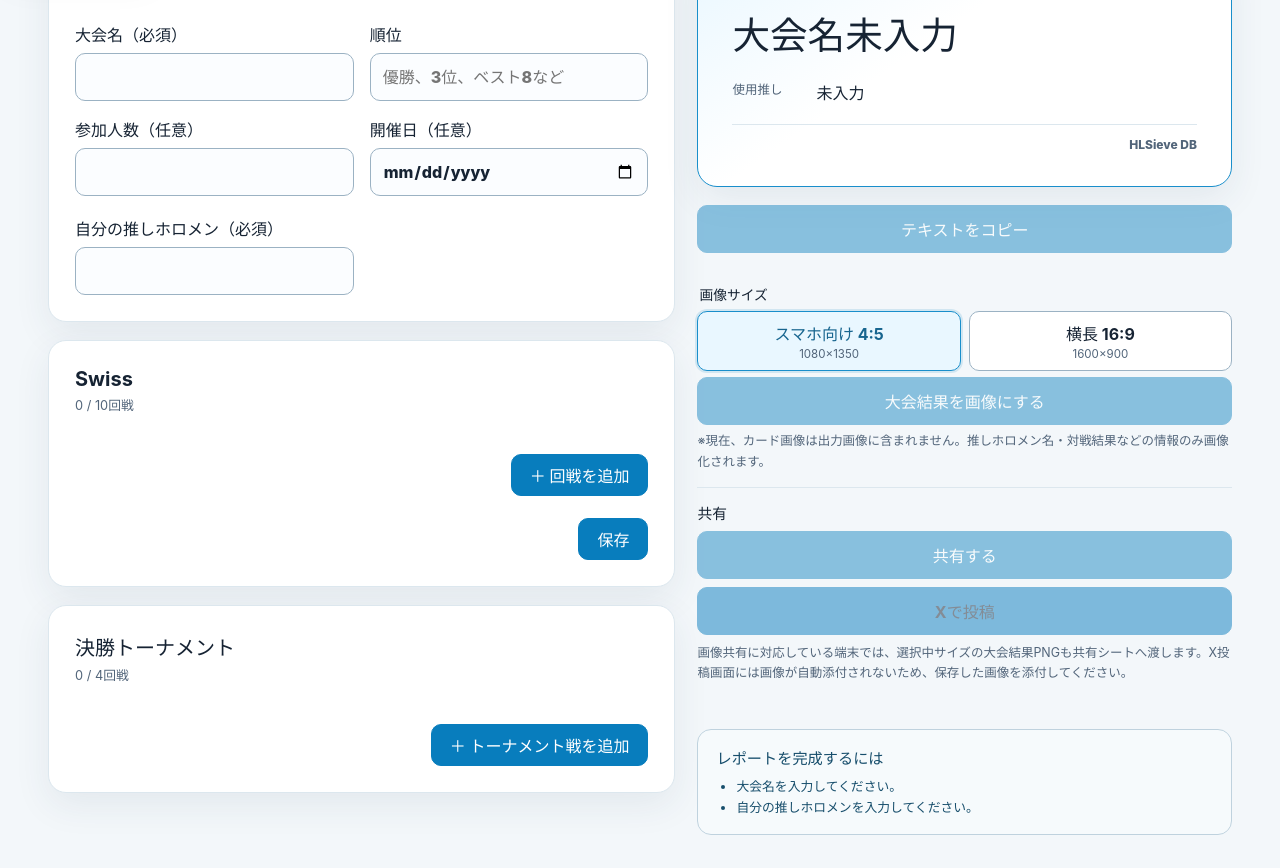
Test: TournamentReportPage › adds, edits, summarizes, and removes a Swiss round
This screenshot has width=1280, height=868.
(page scrolled)
Click the button "＋ 回戦を追加": (580, 475) 511,454 -> 648,496
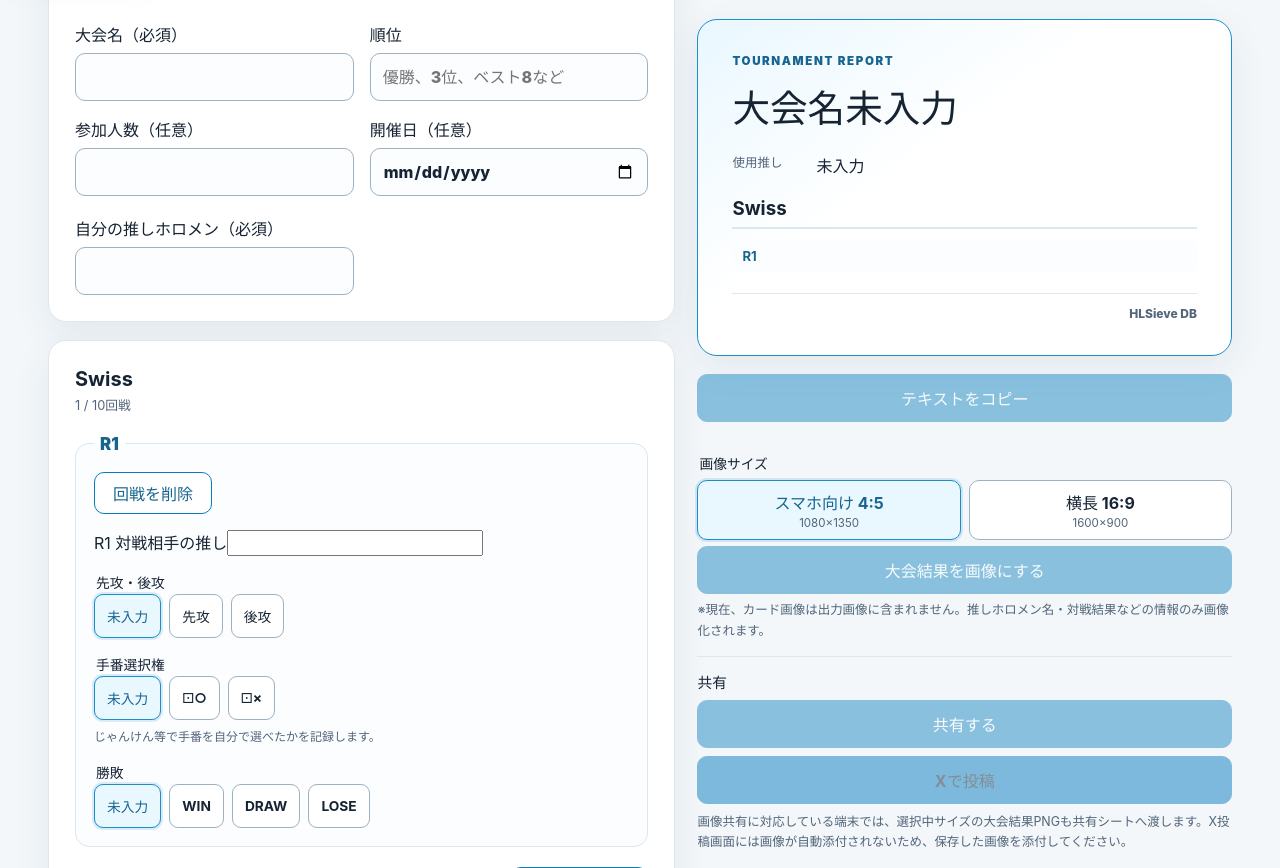
In the field labelled "R1 対戦相手の推し": (355, 543) 227,530 -> 483,556, type "兎田ぺこら"
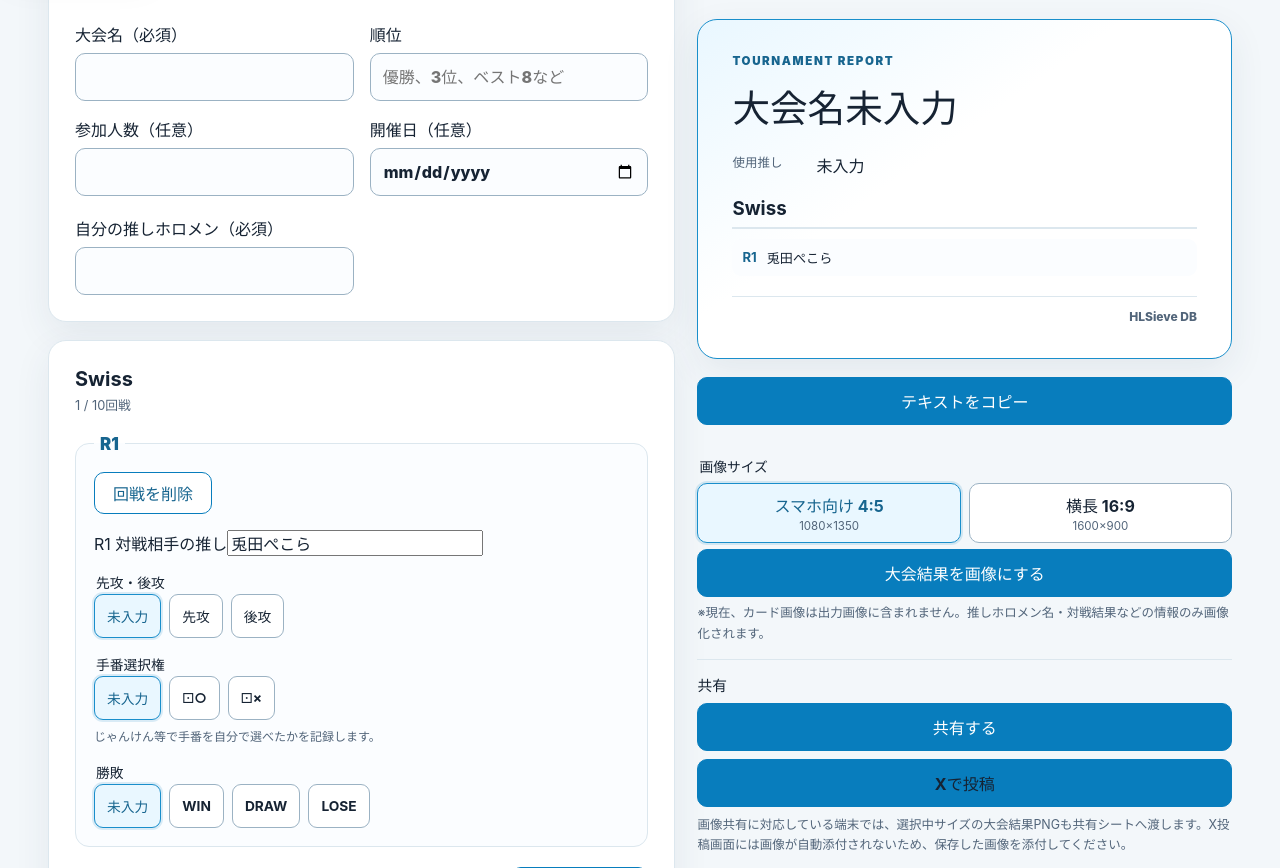
Click the radio button labelled "先攻": (196, 616) 169,594 -> 223,638
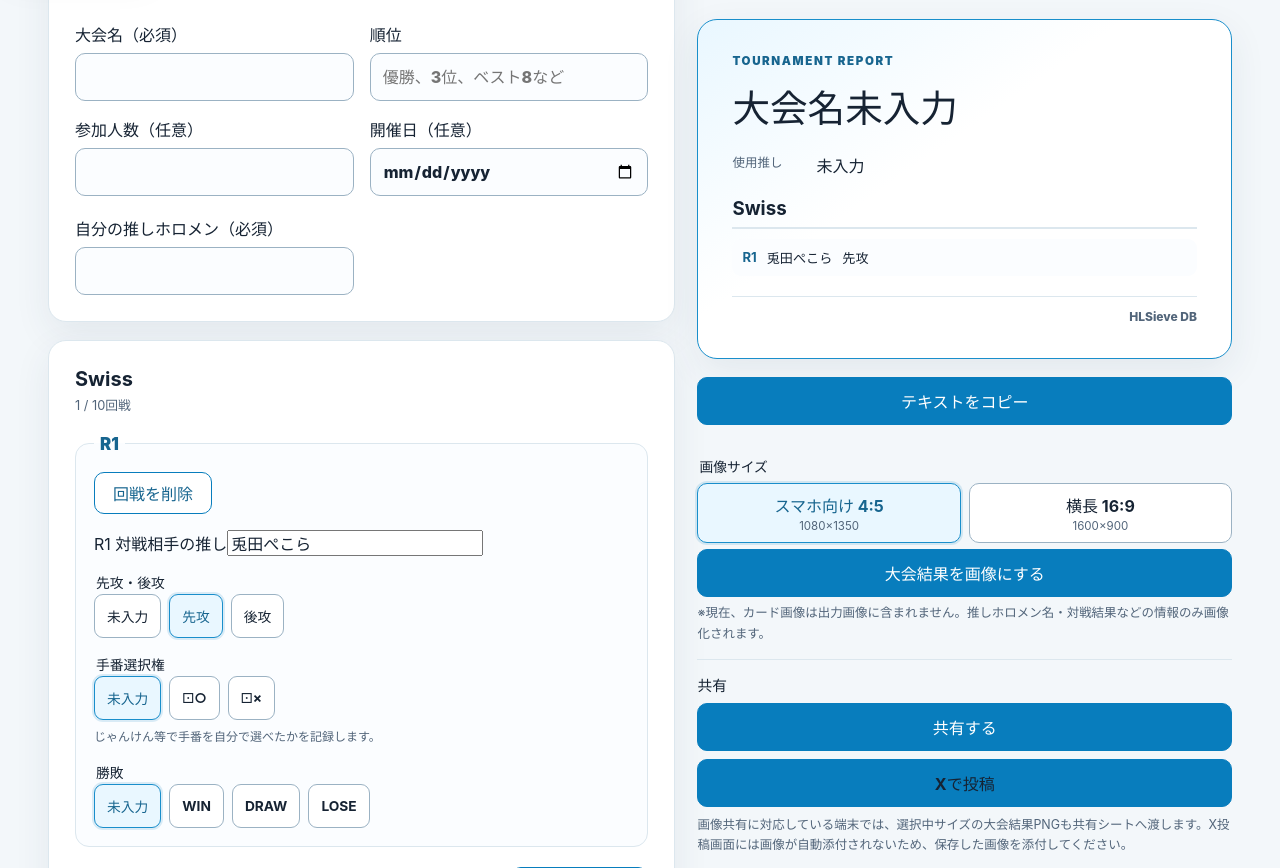
Click the radio button named "⚀○ 手番選択権あり": (195, 698) 169,676 -> 220,720
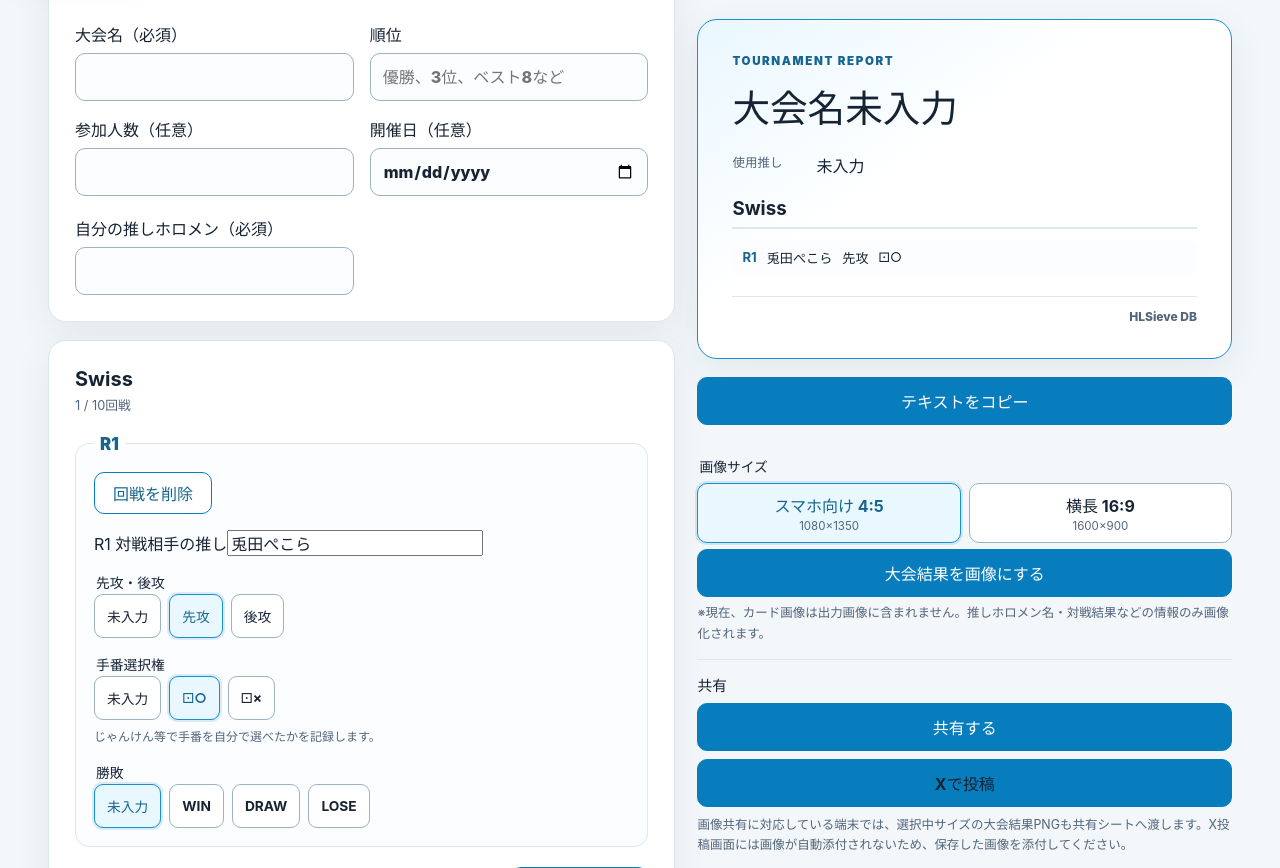
Click the radio button labelled "WIN": (197, 806) 169,784 -> 224,828
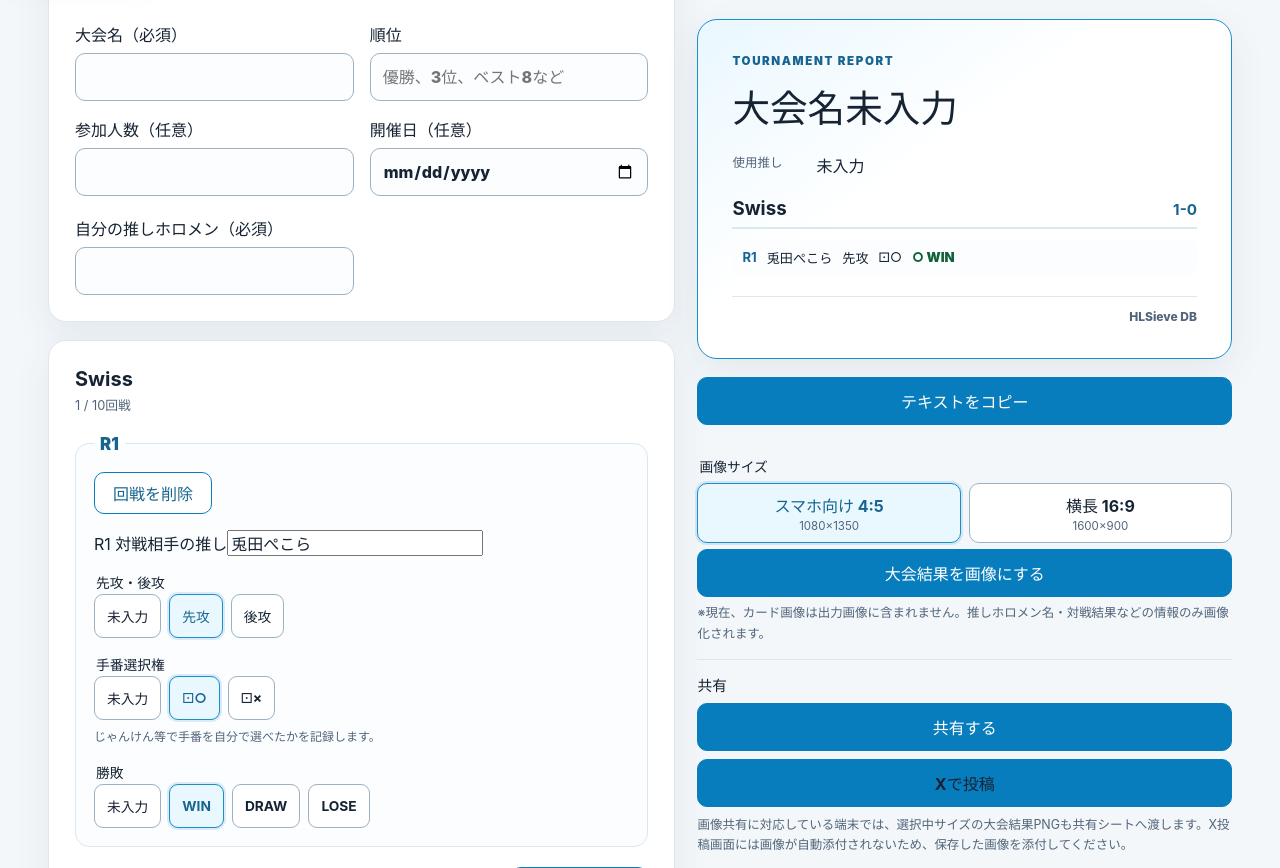
Expected: the element with class "report-preview" shows "R1", 742,250 -> 757,266
Expected: the element with class "report-preview" shows "兎田ぺこら", 767,250 -> 832,266
Expected: the element with class "report-preview" shows "先攻", 842,250 -> 868,266
Click the button with aria-label "R1を削除": (153, 493) 94,472 -> 212,514
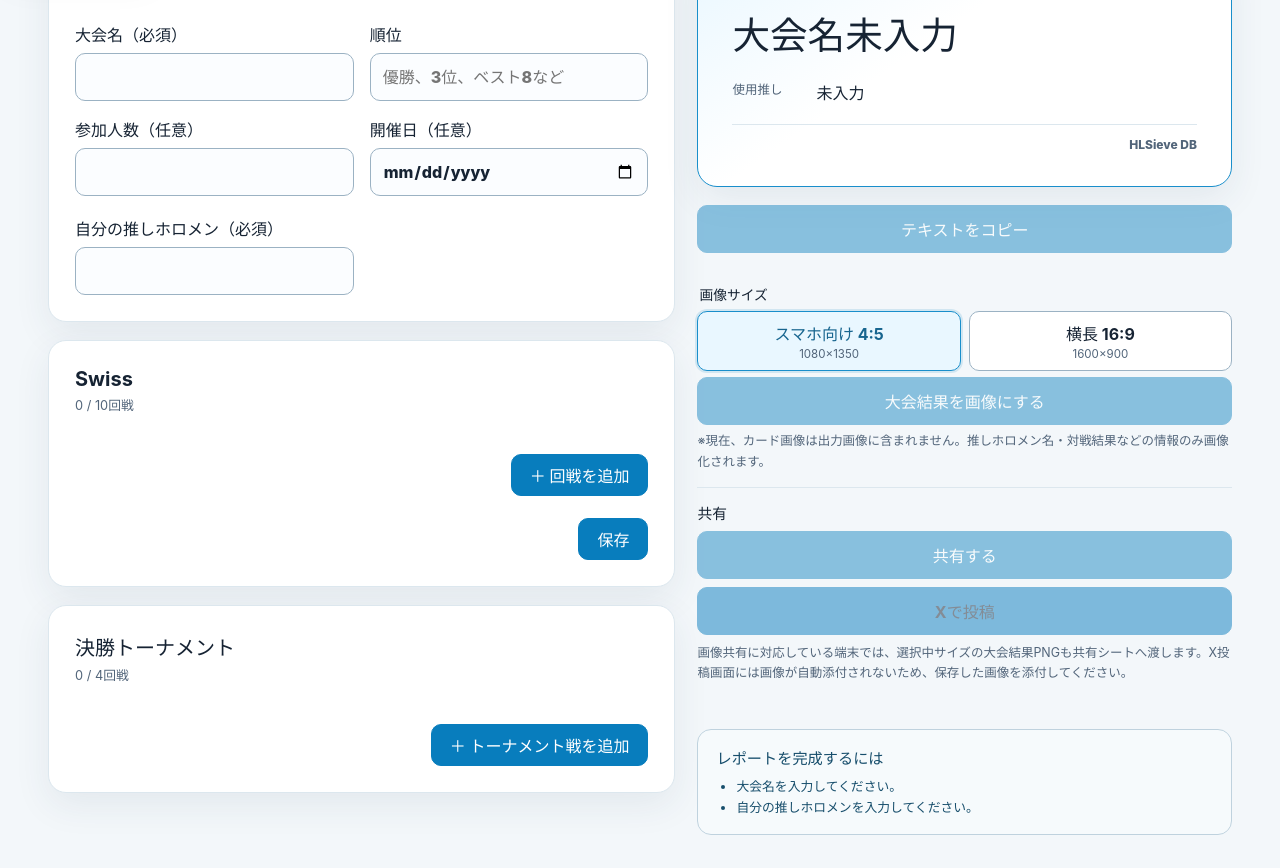
Expected: the text "R1" is gone
